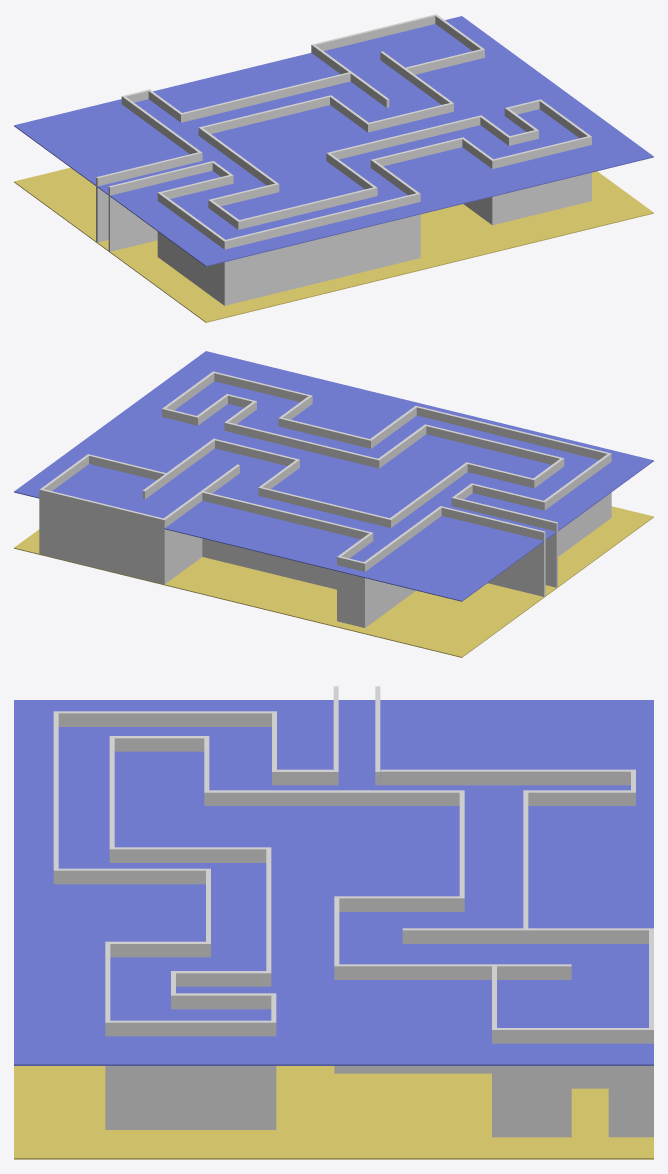
File: Laberinto.glb
3 renders of one model, top to bottom at view 1: azimuth 30°, elevation 25°; view 2: azimuth 150°, elevation 25°; view 3: azimuth 270°, elevation 25°, orthographic. The views are drawn at different scales.
Parts seen in each view (by area): view 1: Suelo.004, Suelo.003, Paredes.030, Paredes.039, Paredes.012, Paredes.029, Paredes.017, Paredes.011, Paredes.035, Paredes.032, Paredes.015, Paredes.024 (+14 smaller); view 2: Suelo.004, Suelo.003, Paredes.024, Paredes.017, Paredes.011, Paredes.029, Paredes.016, Paredes.025, Paredes.030, Paredes.026, Paredes.012, Paredes.035 (+14 smaller); view 3: Suelo.004, Suelo.003, Paredes.041, MarcoPuerta.003, Paredes.021, Paredes.016, Paredes.013, Paredes.029, Paredes.034, Paredes.033, Paredes.018, Paredes.019 (+13 smaller).
Boxes of the visible parts, x1,y1,x2,y2 form: Suelo.004: [14, 16, 653, 266]; Suelo.003: [14, 167, 653, 322]; Paredes.030: [223, 193, 417, 305]; Paredes.039: [491, 136, 589, 225]; Paredes.012: [108, 161, 214, 251]; Paredes.029: [157, 192, 225, 304]; Paredes.017: [179, 72, 350, 122]; Paredes.011: [96, 151, 202, 242]; Paredes.035: [326, 116, 480, 161]; Paredes.032: [237, 187, 377, 229]; Paredes.015: [198, 96, 329, 136]; Paredes.024: [314, 14, 437, 50]; Suelo.004: [14, 351, 653, 601]; Suelo.003: [14, 506, 653, 657]; Paredes.024: [39, 488, 163, 583]; Paredes.017: [202, 491, 373, 589]; Paredes.011: [439, 506, 545, 596]; Paredes.029: [542, 454, 610, 556]; Paredes.016: [364, 507, 441, 626]; Paredes.025: [162, 492, 202, 584]; Paredes.030: [416, 406, 611, 518]; Paredes.026: [337, 556, 366, 627]; Paredes.012: [451, 497, 557, 587]; Paredes.035: [227, 422, 380, 468]; Suelo.004: [14, 700, 653, 1065]; Suelo.003: [14, 1066, 653, 1159]; Paredes.041: [105, 1020, 271, 1129]; MarcoPuerta.003: [497, 1028, 648, 1137]; Paredes.021: [339, 964, 571, 1073]; Paredes.016: [380, 769, 630, 785]; Paredes.013: [209, 790, 459, 805]; Paredes.029: [58, 711, 276, 726]; Paredes.034: [53, 868, 210, 884]; Paredes.033: [114, 847, 266, 862]; Paredes.018: [402, 928, 528, 943]; Paredes.019: [334, 896, 464, 911].
Bounding box in the file's own units: 51.77 × 7.2 × 38.42.
